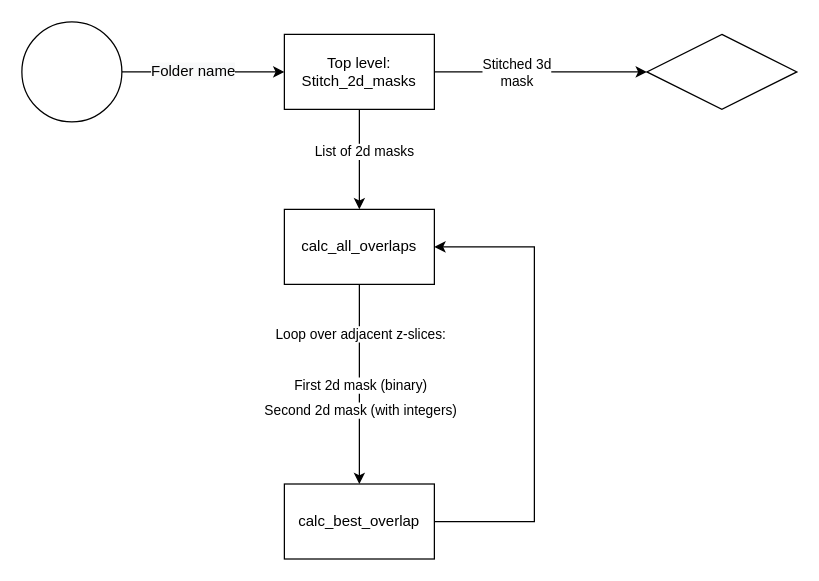
This 819x581 diagram has some shape labels left out. Each missing label, with the centre of its shape:
"Save to disk" belongs at pixel 721 71.
"User" belongs at pixel 71 71.
